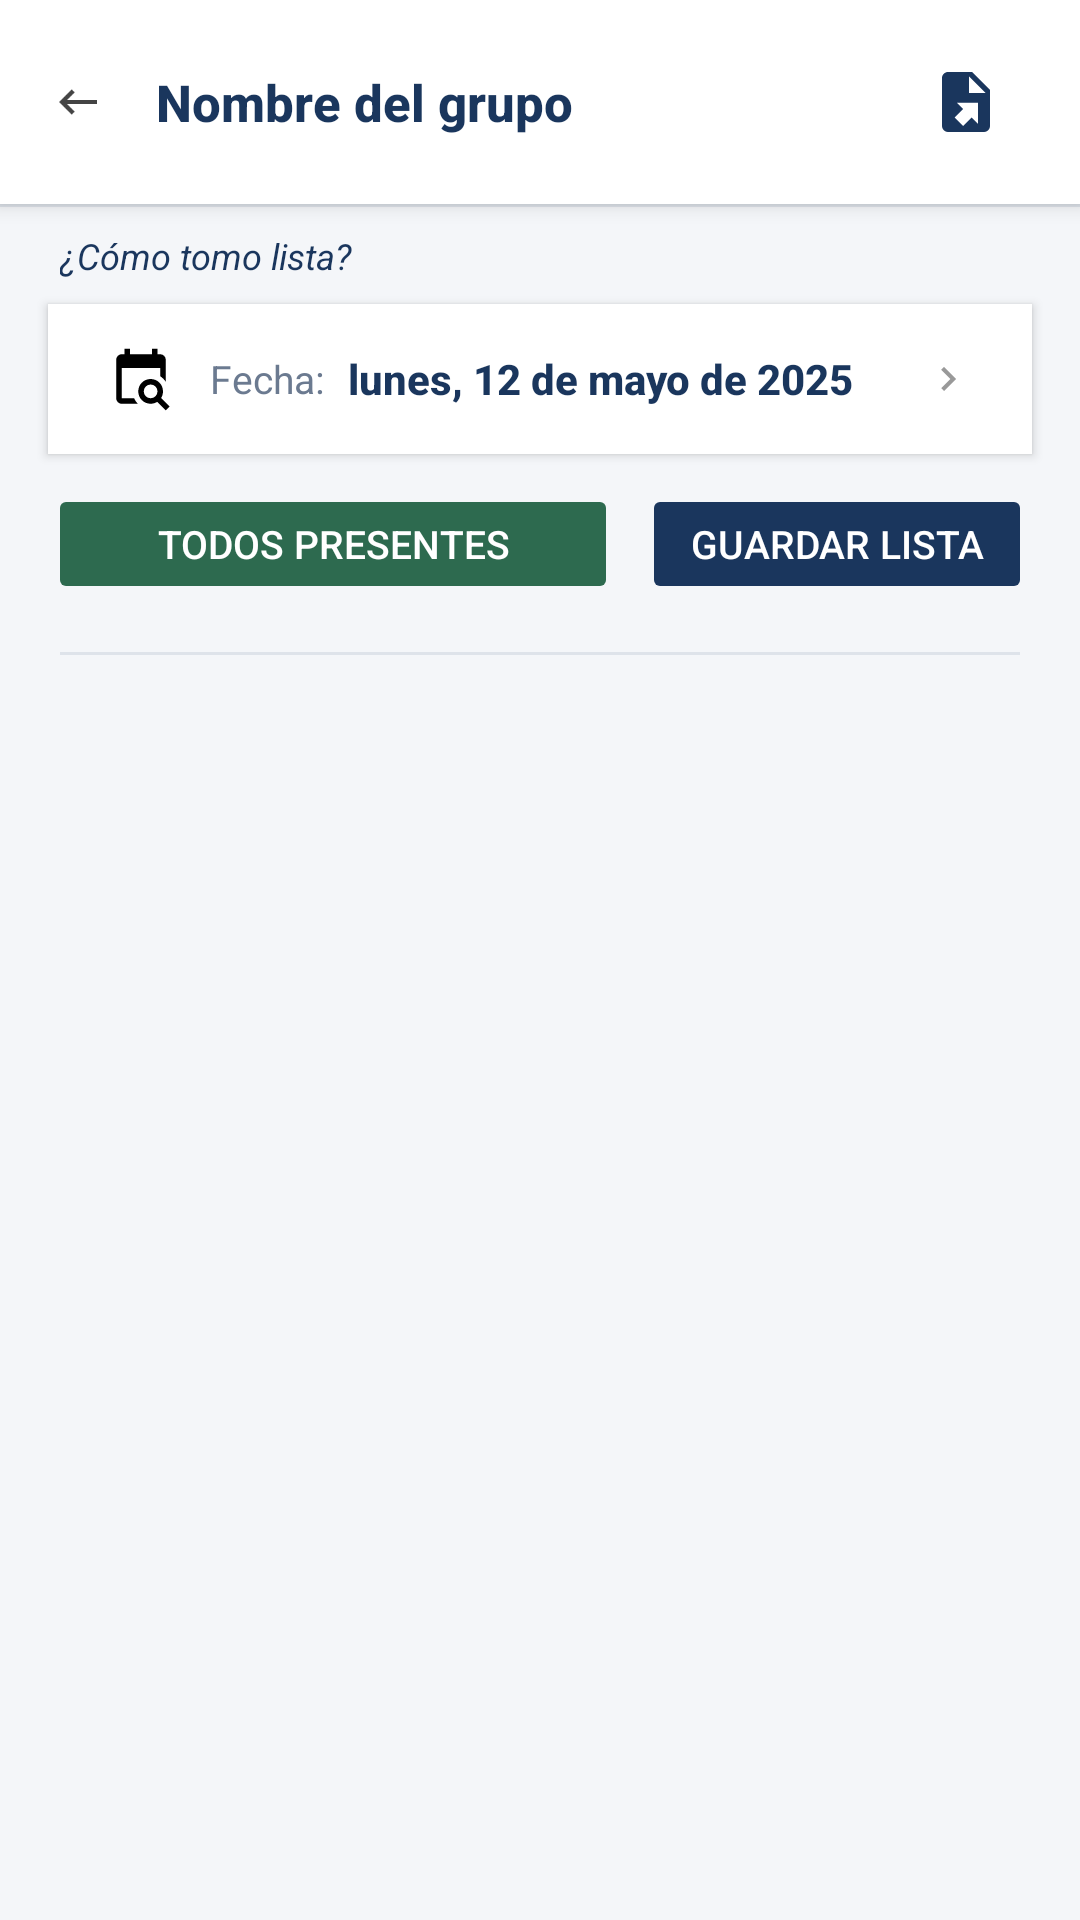

Icon click points for this 1080x1920 phone screenshot, format (x=x, y=y):
calendar search: (x=143, y=379)
chevron right: (x=948, y=379)
export: (x=966, y=102)
